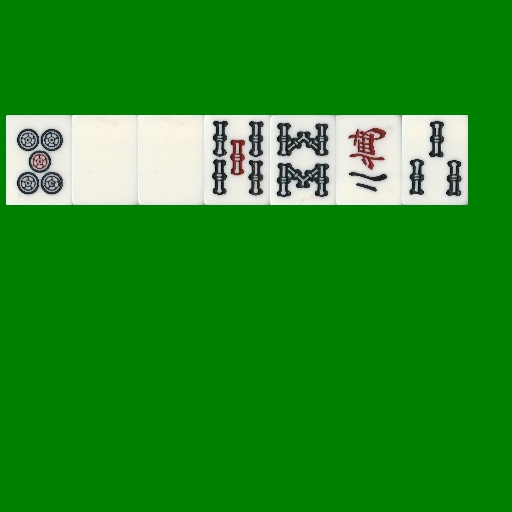2m: (336, 115, 402, 205)
3s: (402, 115, 468, 205)
5p: (6, 115, 72, 205)
5s: (204, 115, 270, 205)
8s: (270, 115, 336, 205)
white: (72, 115, 138, 205), (138, 115, 204, 205)
